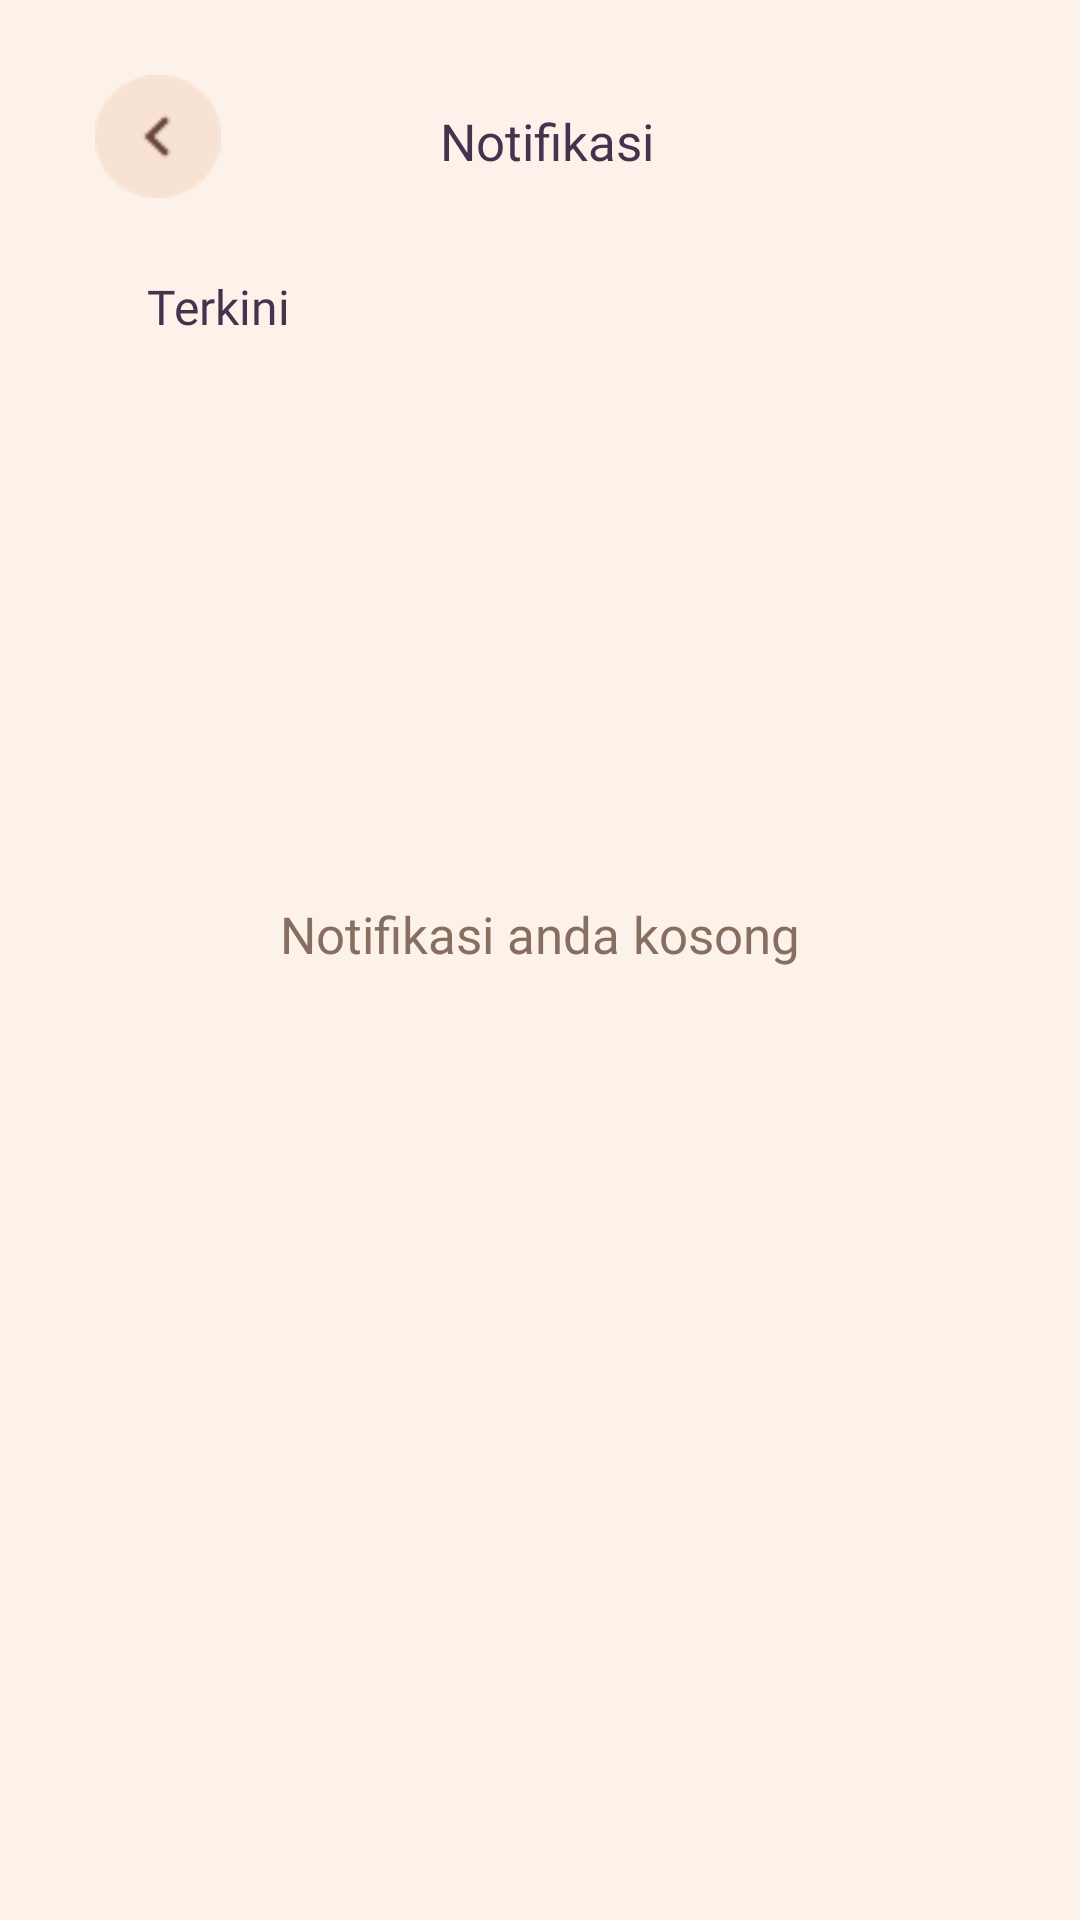

Screen size 1080x1920. Icon name, then its center in pixels as (x,y):
back: (156,136)
